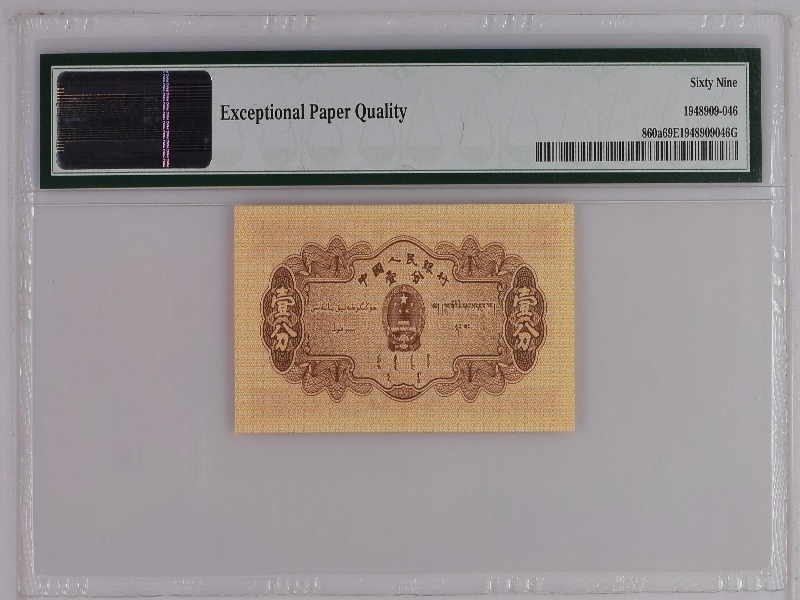papernote: (233, 204, 578, 434)
